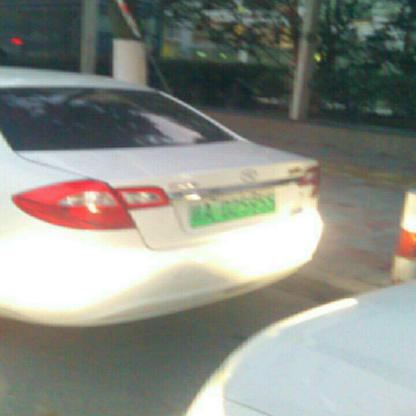lp: (187, 189, 275, 227)
